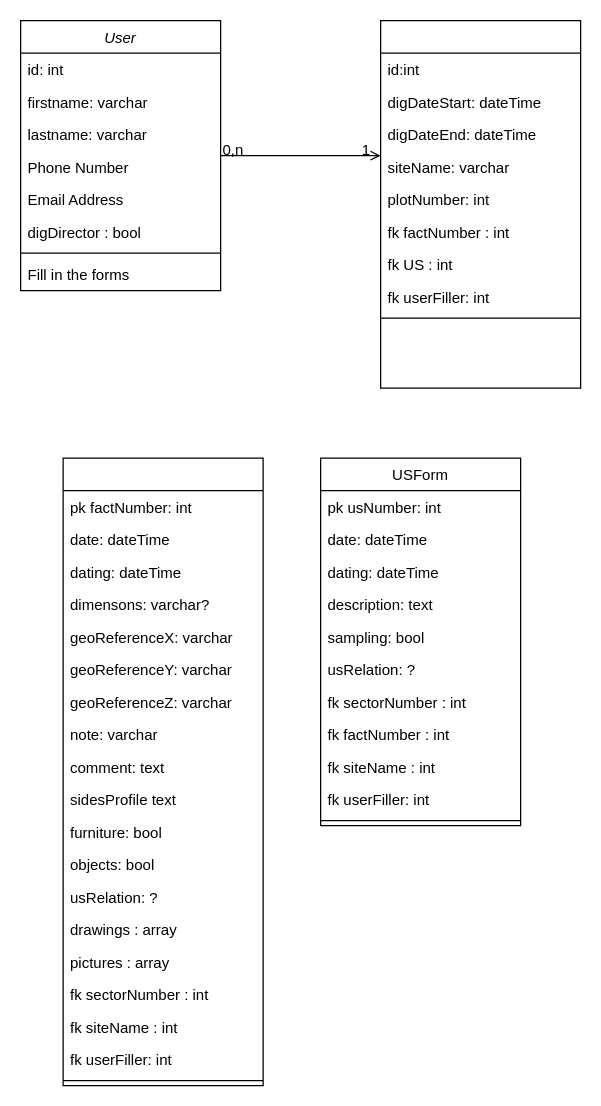
Some shapes in this 601 by 1106 pixel diagram are drawn without their labels. The box of each missing label's shape, as (x1, y1, x2, y2) in pixels:
DigSite: (379, 19, 581, 388)
FactsForm: (62, 457, 263, 1086)
